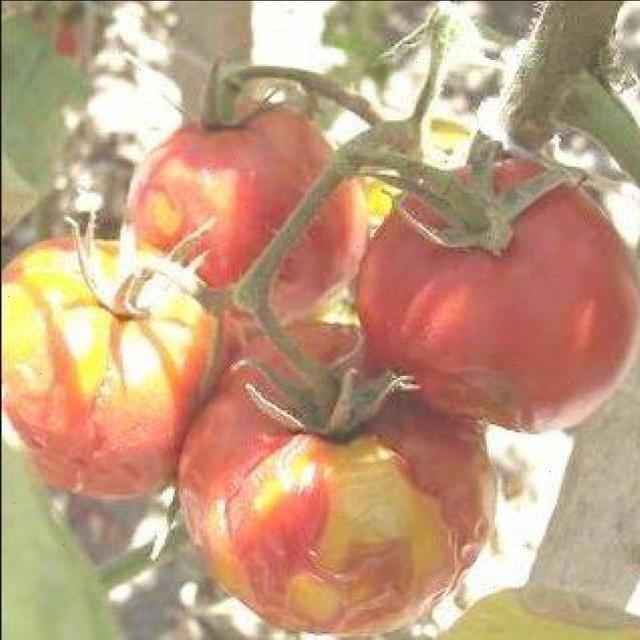Sunscald Fruit: (50, 148, 226, 348)
